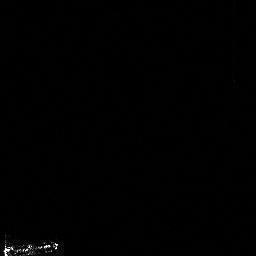ship: (1, 240, 67, 256)
